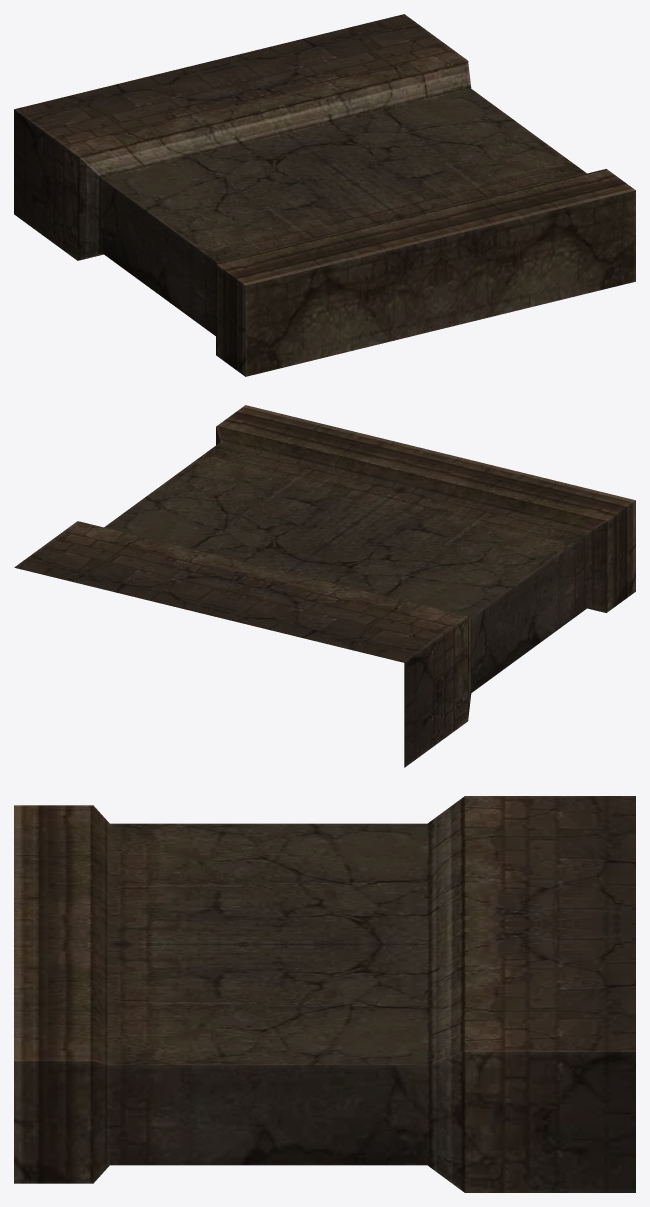
The picture shows the model from 3 angles, top to bottom: view 1: azimuth 30°, elevation 25°; view 2: azimuth 150°, elevation 25°; view 3: azimuth 270°, elevation 25°; orthographic projection. The views are drawn at different scales.
Parts seen in each view (by area): view 1: model_Object12; view 2: model_Object12; view 3: model_Object12.
Part boxes in pixels (x1,y1,x2,y2): model_Object12: [14, 14, 635, 376]; model_Object12: [14, 405, 635, 767]; model_Object12: [14, 796, 635, 1192].
Bounding box in the file's own units: 2.39 × 0.6132 × 2.45.
Materials: 1 (1 with a texture image).
